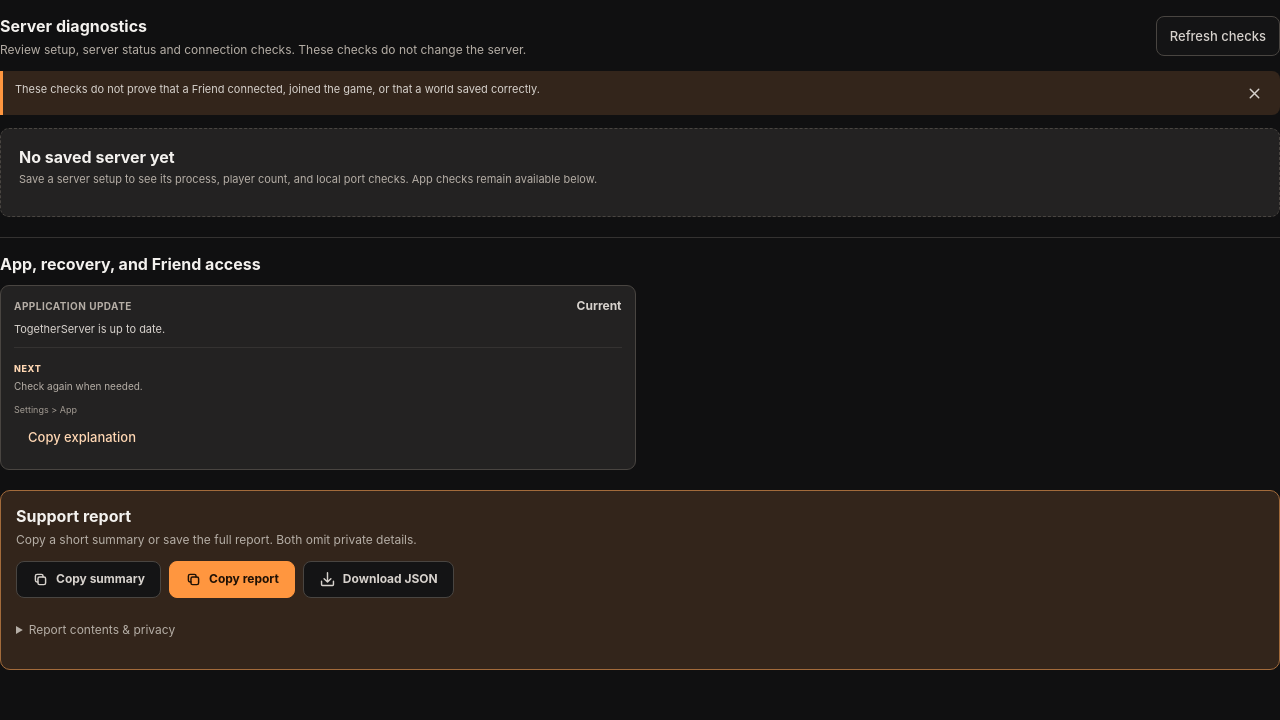
Test: OwnerDiagnostics › keeps a concise copy failure generic and allows app-only diagnostics when no server is saved
What coordinates should you click on to do the following:
click the button "Copy summary"
I would click on:
 (88, 579)
Its box is [16,561,161,598].
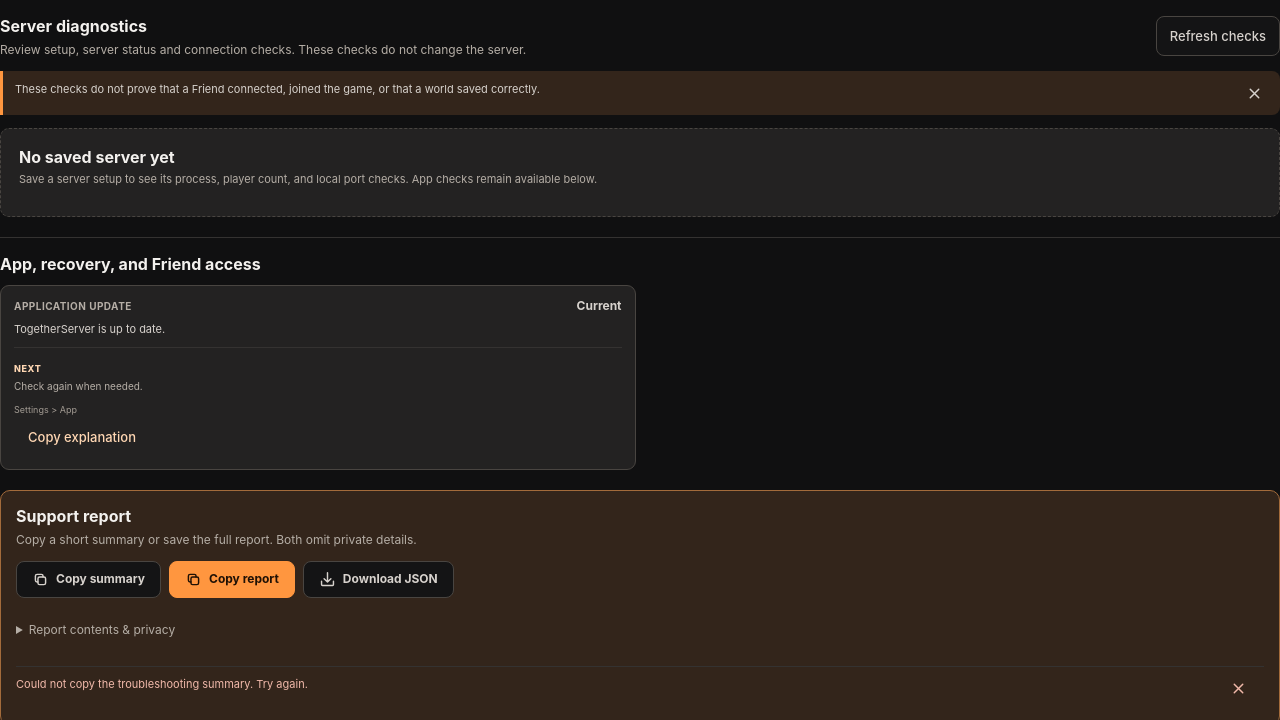
Now the text "Could not copy the troubleshooting summary. Try again." is shown, box [16,666,1264,710]
